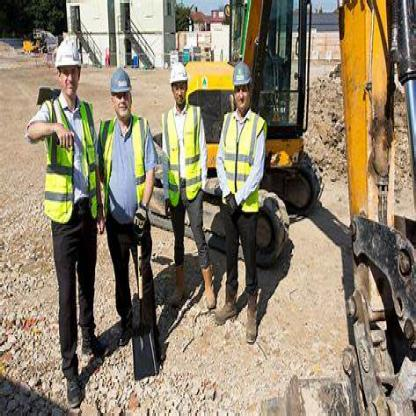person: (23, 21, 106, 386), (99, 24, 177, 351), (212, 48, 270, 352), (157, 46, 212, 315)
